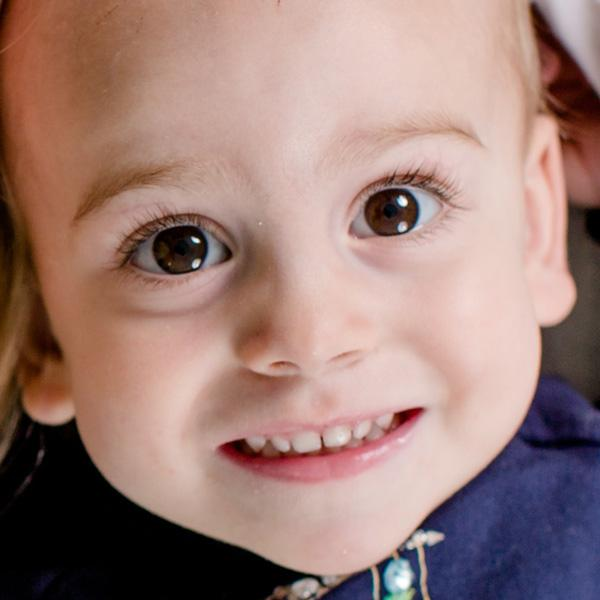Eyes: (107, 203, 246, 304), (327, 162, 461, 262)
